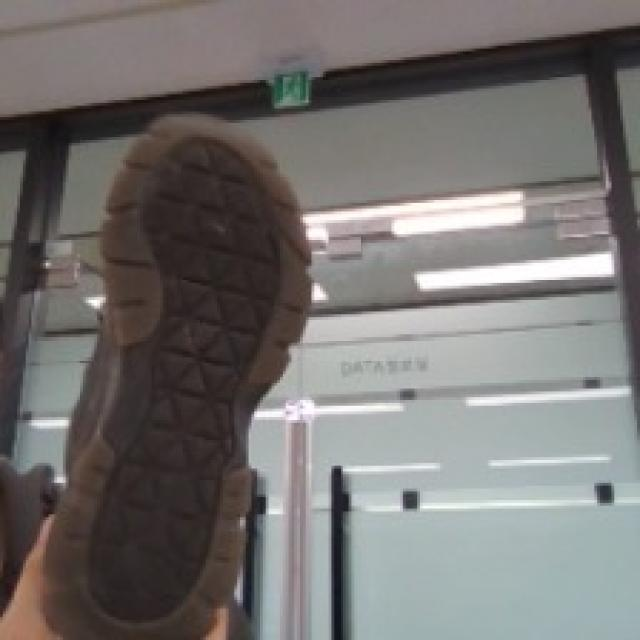shoe: (16, 90, 366, 628)
